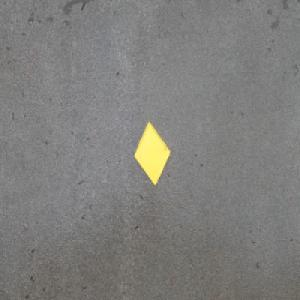PlasticPart: (133, 120, 171, 187)
